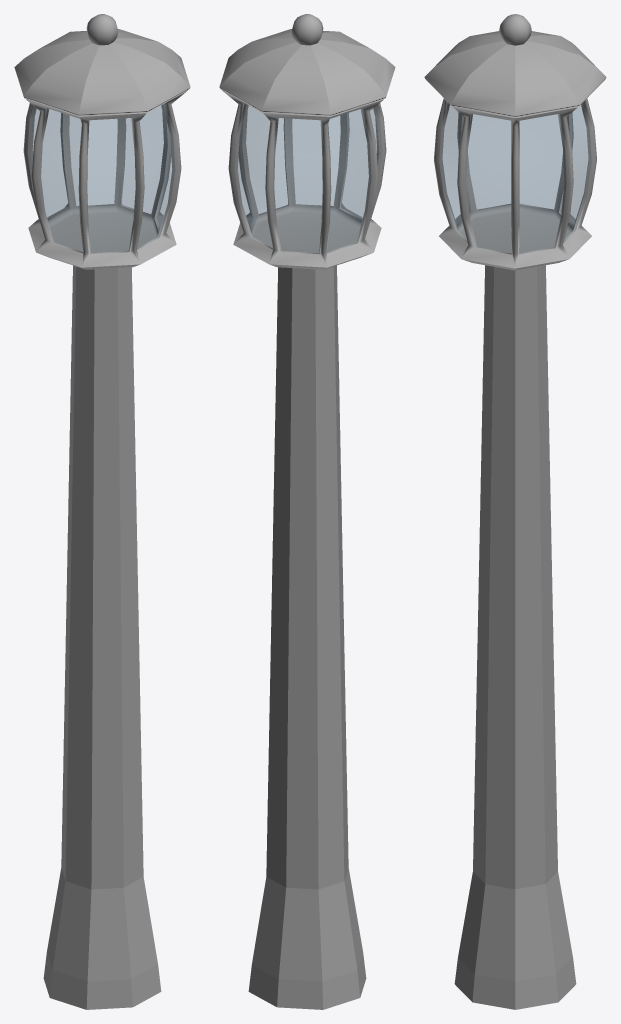
File: itemMesh_windmillIs_lightTall.fbx
The picture shows the model from 3 angles, left to right: view 1: azimuth 30°, elevation 25°; view 2: azimuth 150°, elevation 25°; view 3: azimuth 270°, elevation 25°; orthographic projection.
Visible parts, largest first — view 1: Lantern1High, Lantern1Lid; view 2: Lantern1High, Lantern1Lid; view 3: Lantern1High, Lantern1Lid.
Boxes of the visible parts, <box> form: Lantern1High: <box>23,90,187,1009</box>; Lantern1Lid: <box>14,14,190,116</box>; Lantern1High: <box>222,90,386,1009</box>; Lantern1Lid: <box>219,14,395,116</box>; Lantern1High: <box>434,98,596,1009</box>; Lantern1Lid: <box>424,14,606,117</box>.
Size of the model in its own units: 0.557 by 3.27 by 0.557.
